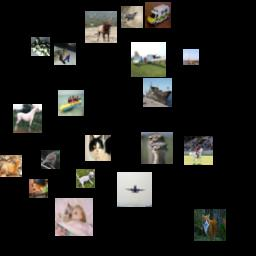airplane: (117, 172, 152, 207), (131, 42, 166, 77), (121, 6, 143, 28)
automobile: (145, 2, 171, 28)
bird: (141, 132, 173, 164), (41, 150, 60, 169)
cat: (55, 198, 93, 236), (194, 209, 226, 241), (85, 135, 111, 161), (54, 43, 76, 65)
deer: (85, 11, 117, 43), (0, 155, 22, 177)
dog: (29, 179, 48, 198), (76, 169, 95, 188)
frog: (31, 37, 50, 56)
ship: (143, 78, 172, 107), (58, 90, 84, 116), (183, 49, 199, 65)
